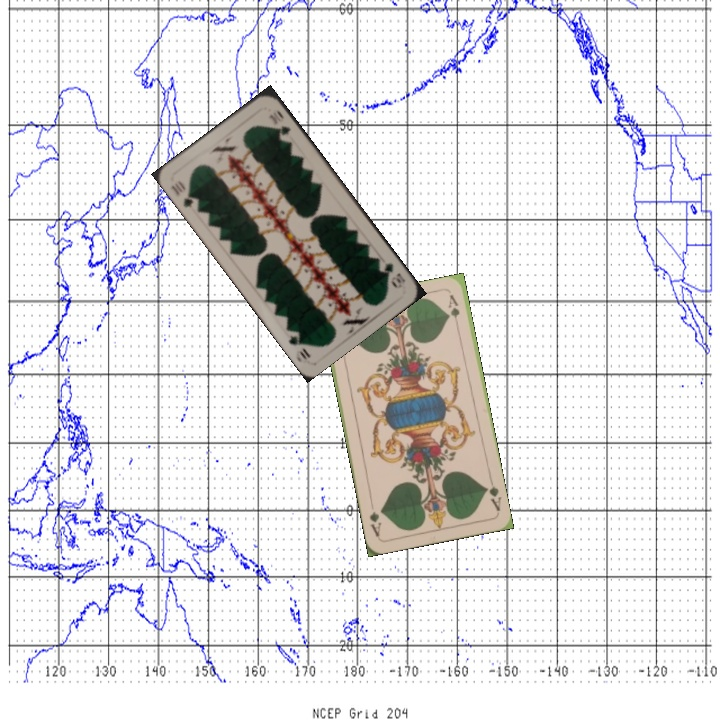G10: (167, 176, 202, 210), (380, 259, 408, 291)
GA: (481, 474, 503, 513)
